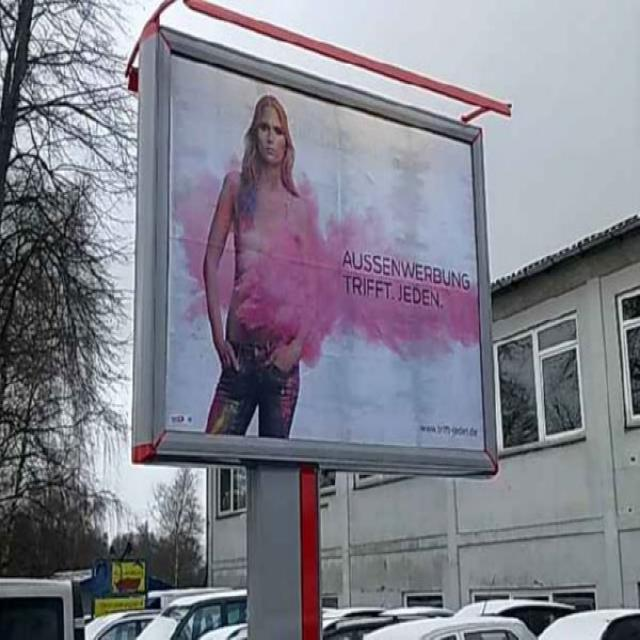Werbetafel frei: (132, 0, 502, 478)
